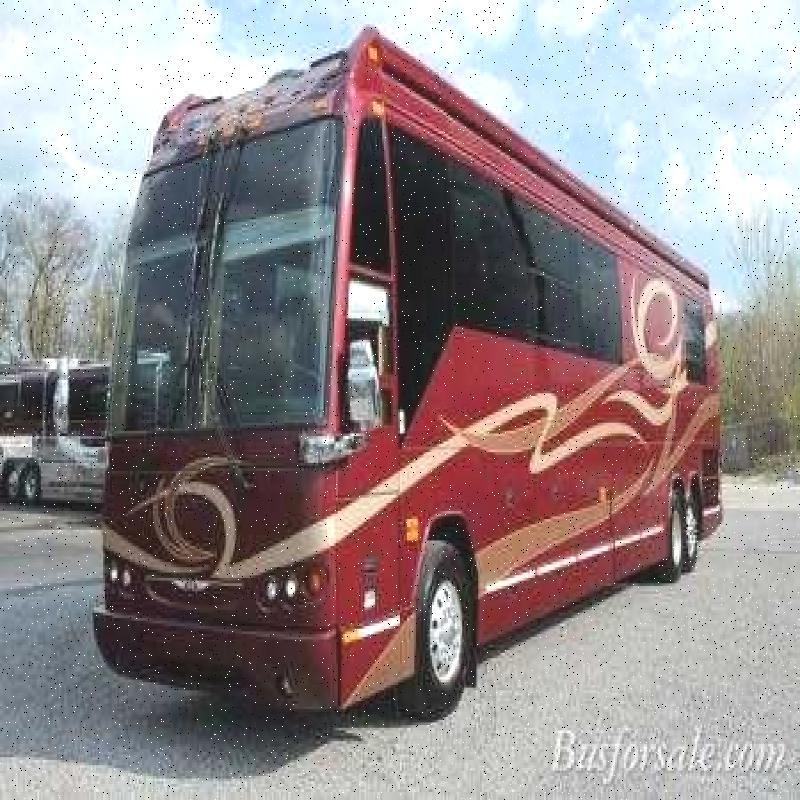bus: (118, 35, 749, 712)
